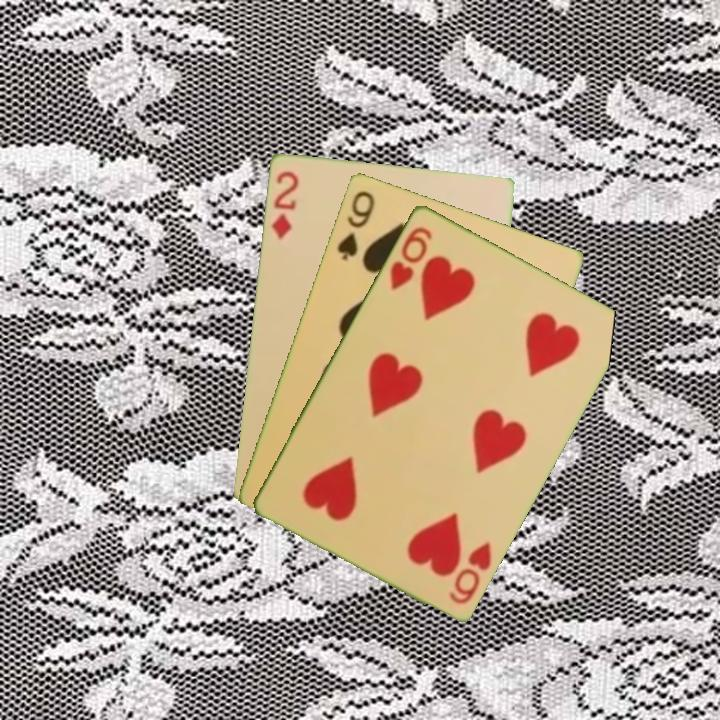2d: (268, 167, 301, 241)
6h: (386, 222, 435, 293), (445, 538, 495, 607)
9s: (333, 186, 378, 263)
